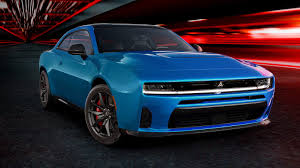car: (38, 25, 279, 144)
